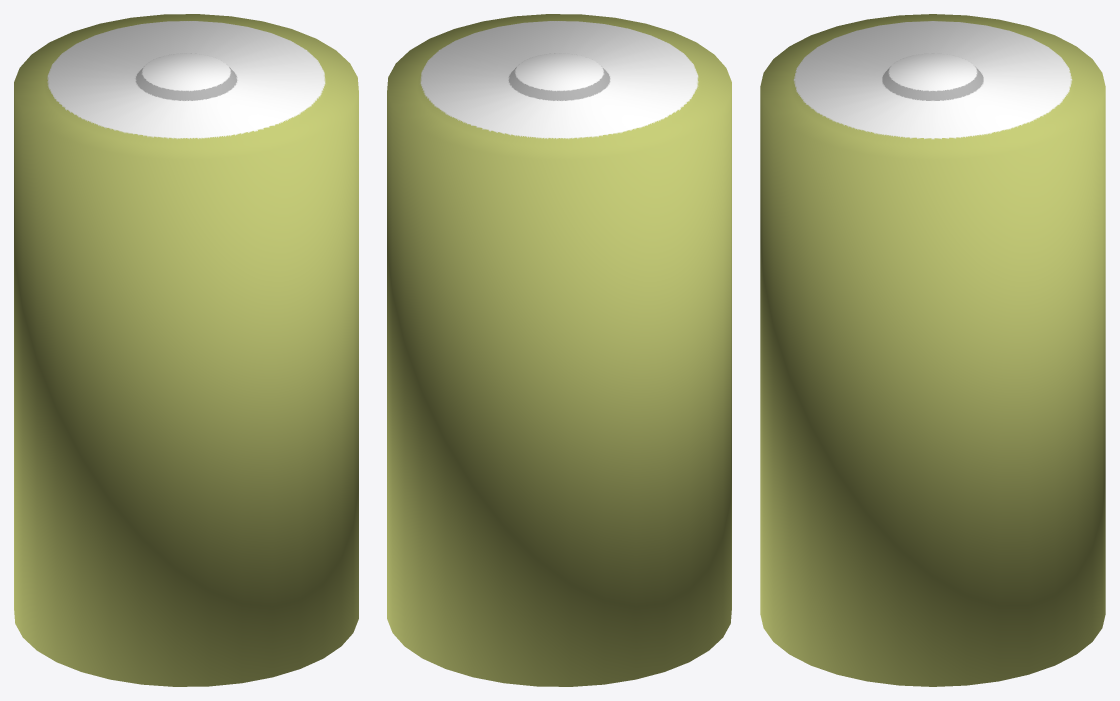
Rendered from battery.glb.
The picture shows the model from 3 angles, left to right: view 1: azimuth 30°, elevation 25°; view 2: azimuth 150°, elevation 25°; view 3: azimuth 270°, elevation 25°; orthographic projection.
Parts seen in each view (by area): view 1: Cylinder; view 2: Cylinder; view 3: Cylinder.
Boxes of the visible parts, bbox=[...] form: Cylinder: bbox=[14, 14, 358, 686]; Cylinder: bbox=[387, 14, 731, 686]; Cylinder: bbox=[760, 14, 1105, 686].
Size of the model in its own units: 2 by 3.46 by 2.
Materials: 1 (1 with a texture image).
